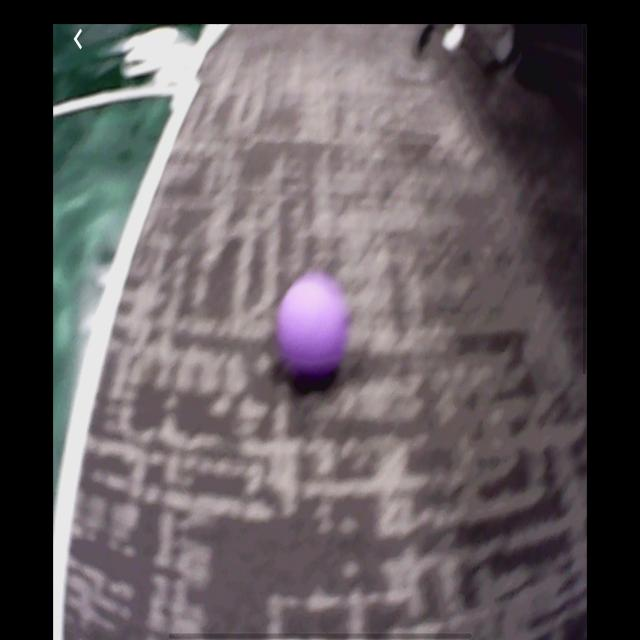ball: (279, 271, 351, 379)
